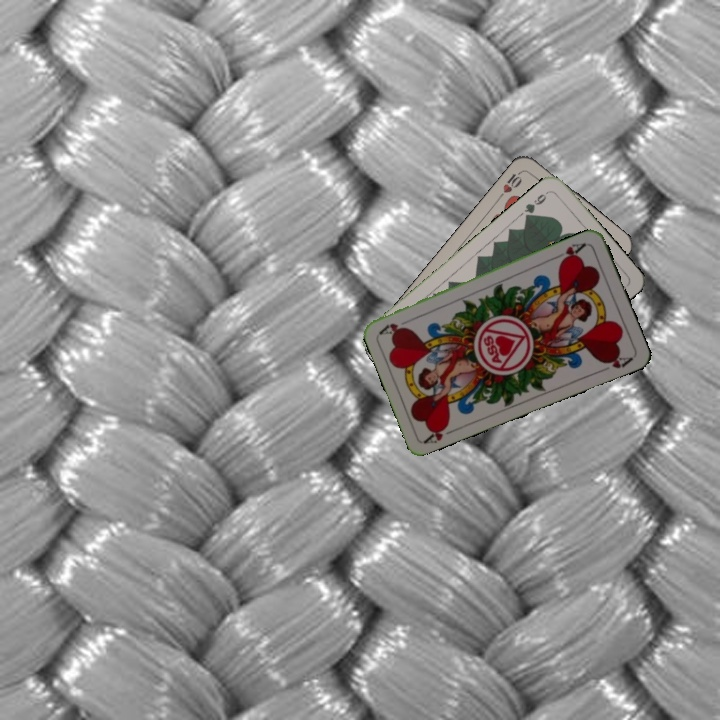G9: (520, 187, 552, 221)
H10: (495, 167, 526, 201)
HA: (421, 419, 460, 446), (551, 239, 589, 266)
